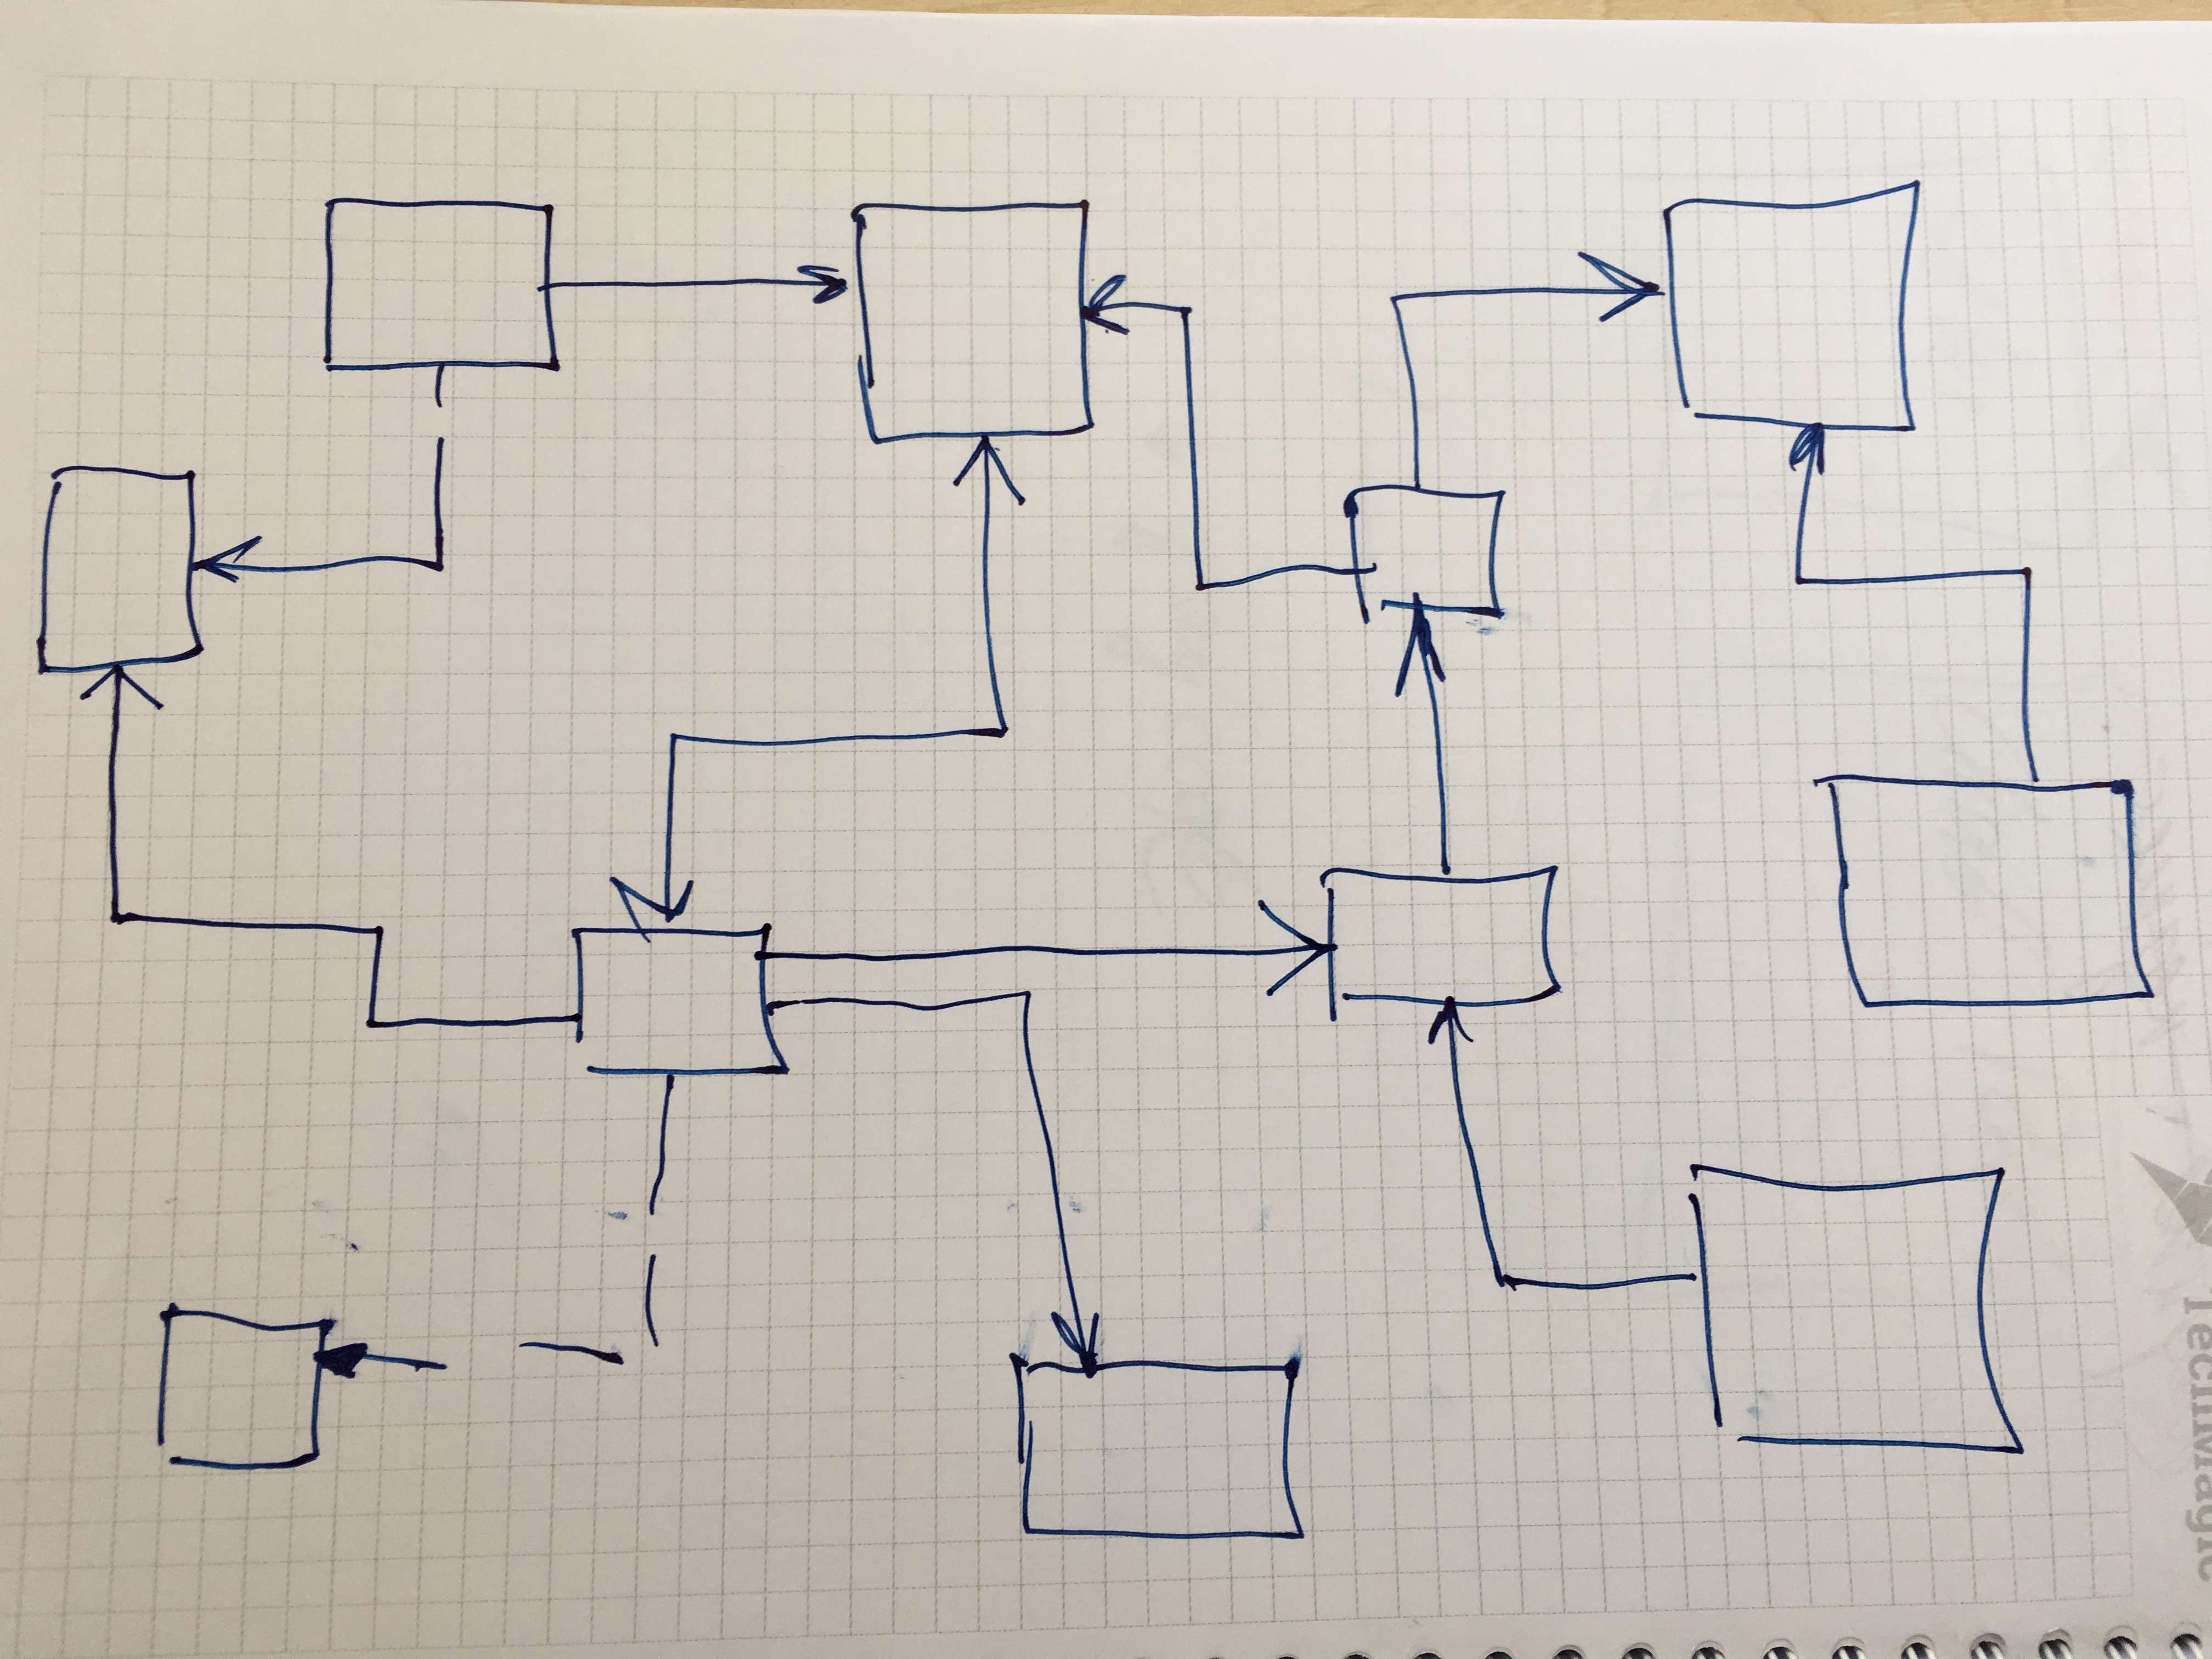arrow: (1200, 892, 1339, 999), (603, 819, 709, 957), (1557, 240, 1691, 342), (1385, 586, 1454, 730), (71, 652, 172, 742), (1066, 274, 1176, 349), (1038, 1288, 1113, 1398), (951, 441, 1031, 530), (1420, 986, 1482, 1091), (181, 533, 280, 592), (1782, 397, 1834, 505), (773, 249, 852, 314), (303, 1333, 385, 1392)
